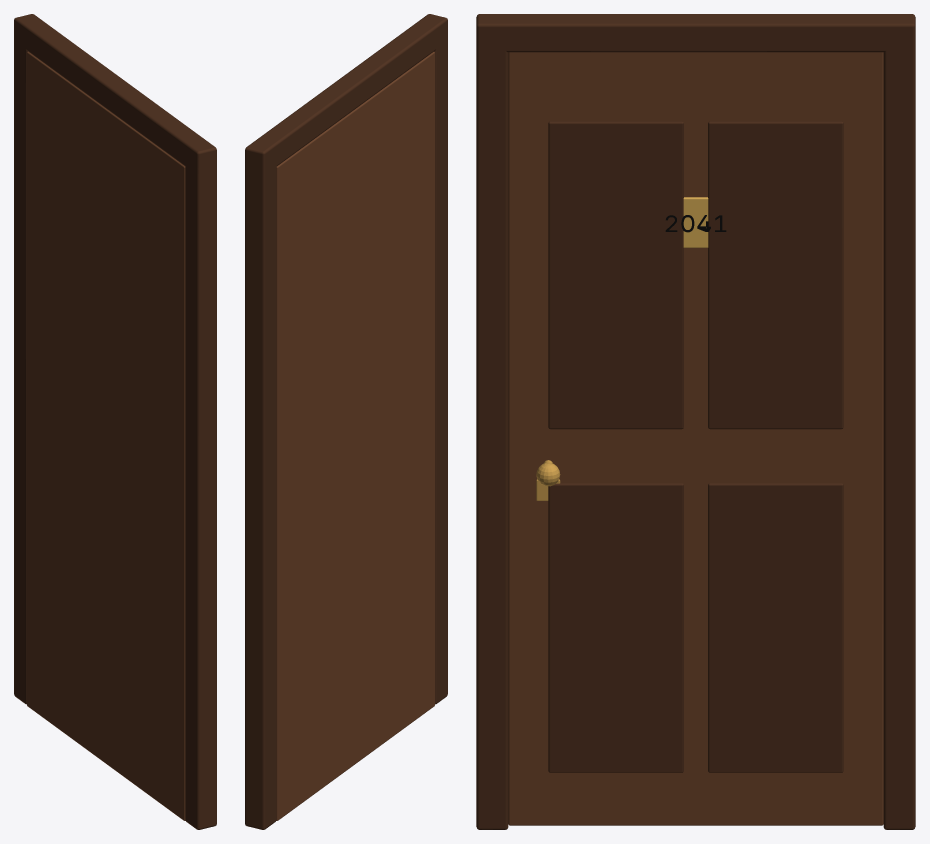
File: hotel_door_b.glb
3 renders of one model, left to right at view 1: azimuth 30°, elevation 25°; view 2: azimuth 150°, elevation 25°; view 3: azimuth 270°, elevation 25°, orthographic. The views are drawn at different scales.
Visible parts, largest first — view 1: blatt, zarge.001, zarge, zarge.002; view 2: blatt, zarge, zarge.001, zarge.002; view 3: blatt, kassette.003, kassette.002, kassette.001, kassette, zarge, zarge.001, zarge.002, plakette.
Part boxes in pixels (x1,y1,x2,y2): blatt: [27, 51, 185, 820]; zarge.001: [185, 139, 216, 829]; zarge: [14, 14, 43, 704]; zarge.002: [14, 15, 216, 173]; blatt: [276, 51, 434, 820]; zarge: [245, 139, 276, 829]; zarge.001: [419, 14, 447, 704]; zarge.002: [245, 14, 447, 173]; blatt: [508, 52, 883, 825]; kassette.003: [708, 121, 843, 429]; kassette.002: [548, 121, 683, 429]; kassette.001: [708, 483, 843, 772]; kassette: [548, 483, 683, 772]; zarge: [883, 14, 915, 829]; zarge.001: [476, 14, 508, 829]; zarge.002: [476, 14, 915, 52]; plakette: [683, 197, 708, 247].
Size of the model in its own units: 0.13 by 2.23 by 1.1.
